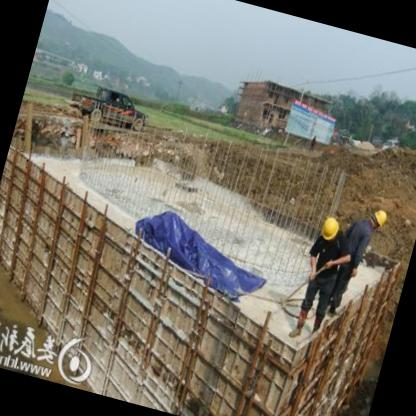helmet: (316, 213, 346, 250), (365, 205, 392, 238)
